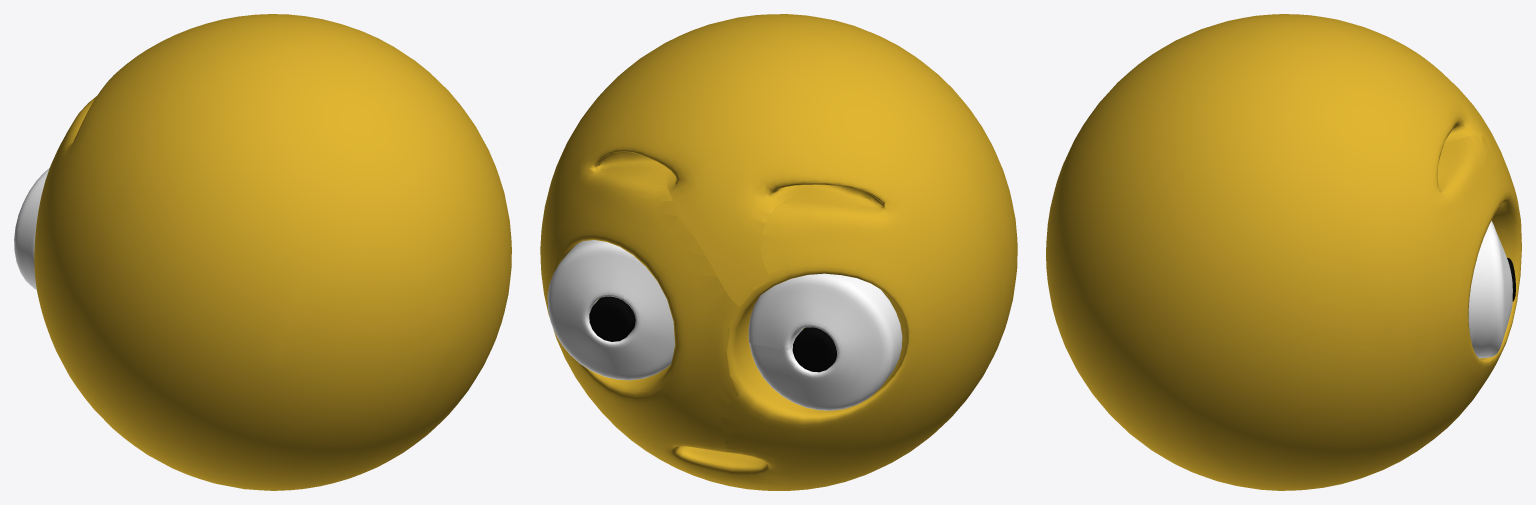
The model's file is surprissed 3DS.glb.
3 renders of one model, left to right at view 1: azimuth 30°, elevation 25°; view 2: azimuth 150°, elevation 25°; view 3: azimuth 270°, elevation 25°, orthographic.
Parts seen in each view (by area): view 1: Group13301, Group002; view 2: Group13301, Group002, ZBrush_de0, ZBrush_def, Group1; view 3: Group13301, ZBrush_de0.
Boxes of the visible parts, left/top/right/bottom form: Group13301: left=34, top=14, right=511, bottom=490; Group002: left=14, top=168, right=49, bottom=289; Group13301: left=540, top=14, right=1017, bottom=490; Group002: left=748, top=273, right=902, bottom=410; ZBrush_de0: left=547, top=240, right=674, bottom=380; ZBrush_def: left=589, top=296, right=635, bottom=341; Group1: left=792, top=327, right=836, bottom=372; Group13301: left=1046, top=14, right=1521, bottom=490; ZBrush_de0: left=1468, top=221, right=1512, bottom=358.
Size of the model in its own units: 0.5729 by 0.573 by 0.5724.
